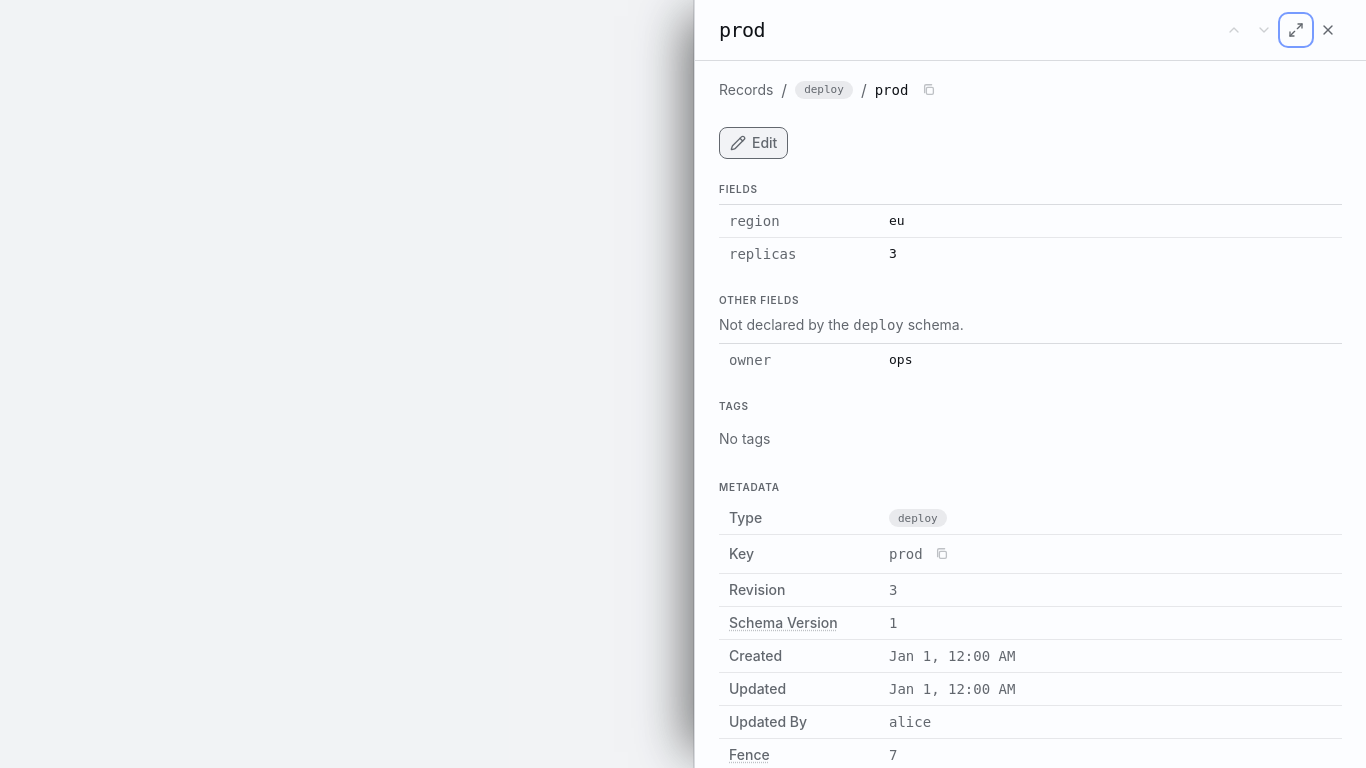
Test: a stale fence keeps the draft and requires review before saving again
The image size is (1366, 768).
Step 1. Click the button "Edit" → {"x": 754, "y": 143}, box x1=719 y1=127 x2=788 y2=159
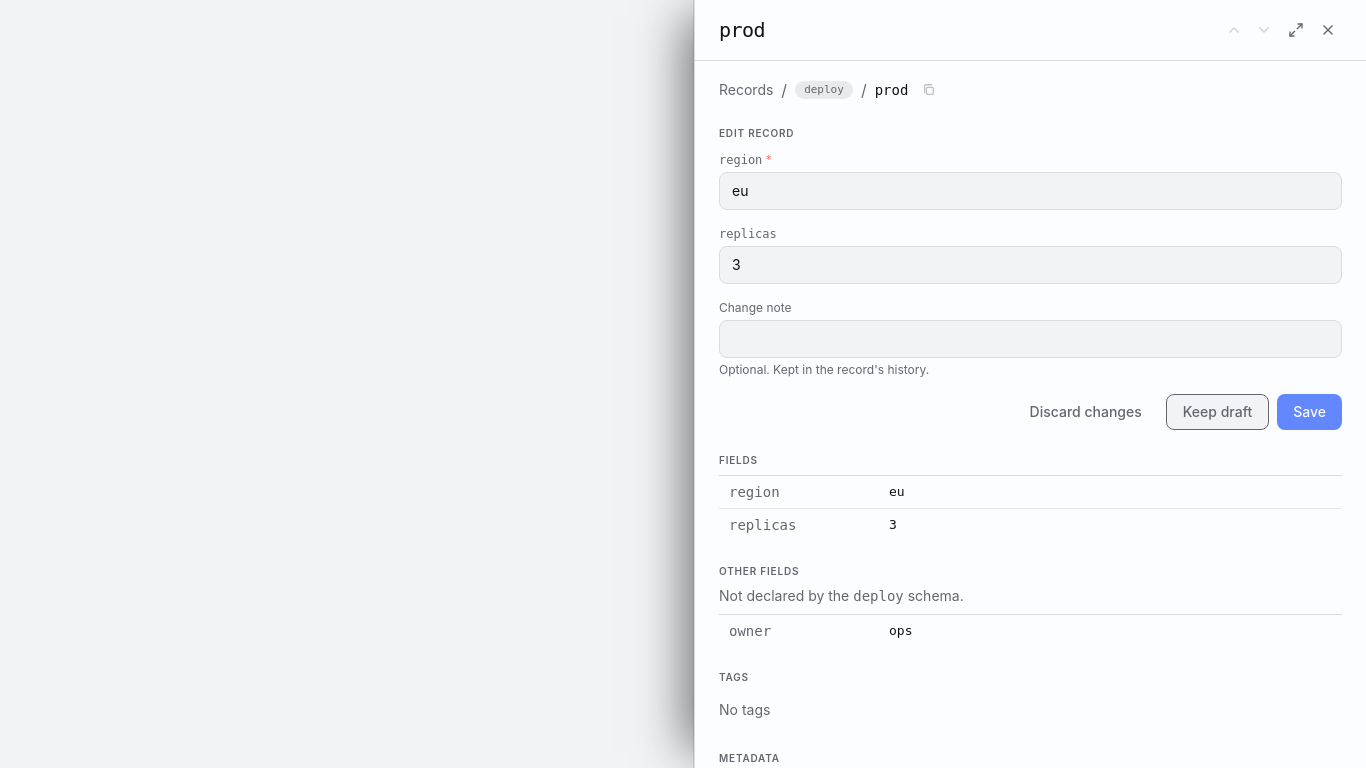
Step 2. Replace the text in the field labelled "region *" with "apac" → {"x": 1030, "y": 191}, box x1=719 y1=172 x2=1342 y2=210
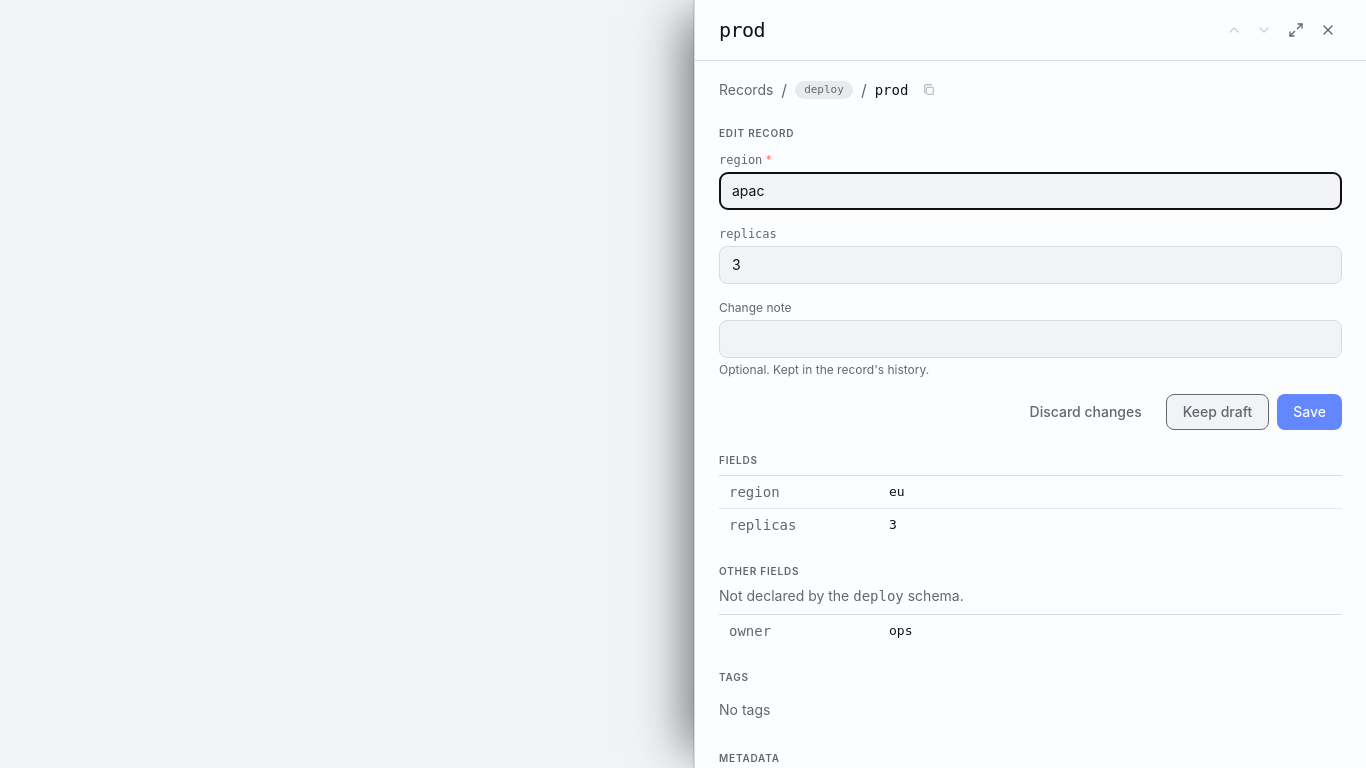
Step 3. Click the button "Save" → {"x": 1310, "y": 412}, box x1=1277 y1=394 x2=1342 y2=430
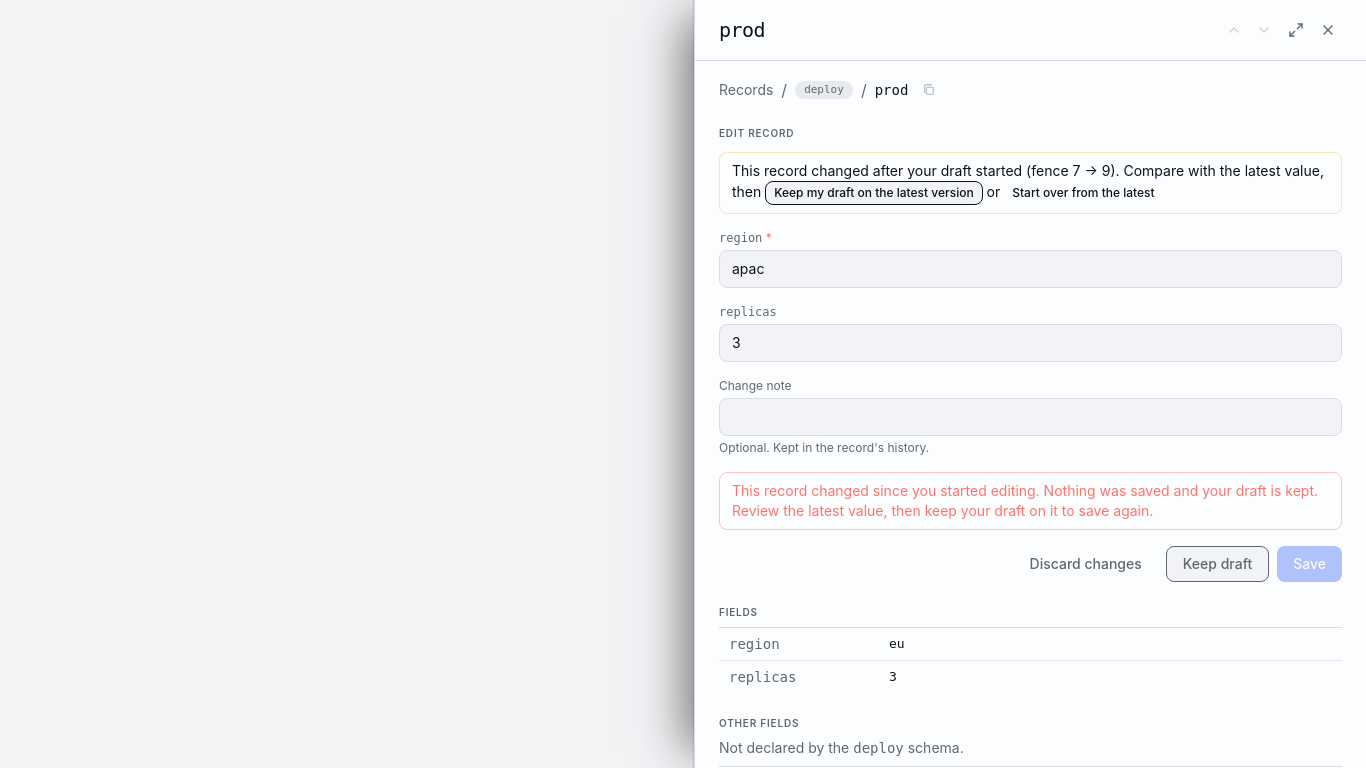
Check: the text "changed since you started editing" is shown, box x1=732 y1=482 x2=1318 y2=519
Check: the button "Keep my draft on the latest version" is shown, box x1=765 y1=181 x2=983 y2=205
Check: the button "Save" is disabled, box x1=1277 y1=546 x2=1342 y2=582
